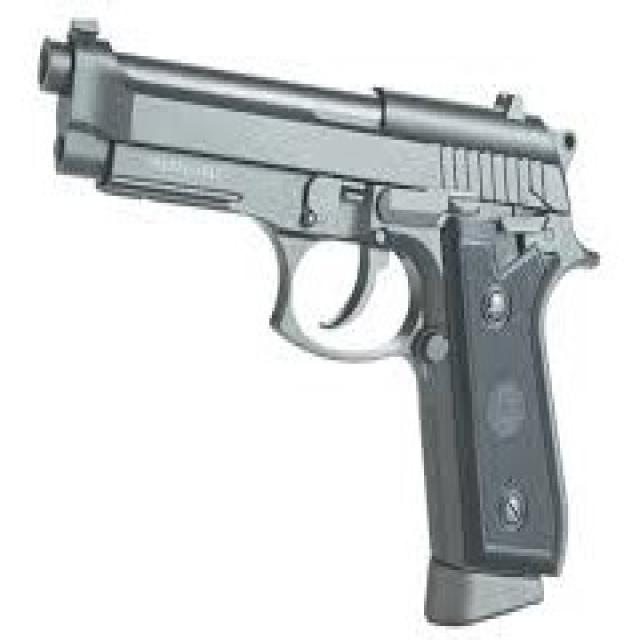pistol: (29, 12, 602, 631)
